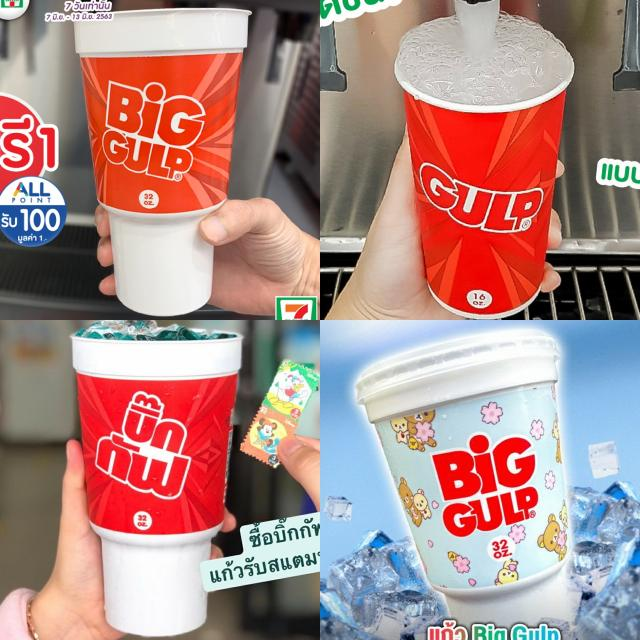Single-Use-Plastic: (356, 331, 580, 629), (395, 0, 574, 318), (75, 10, 250, 316), (72, 335, 242, 636)
